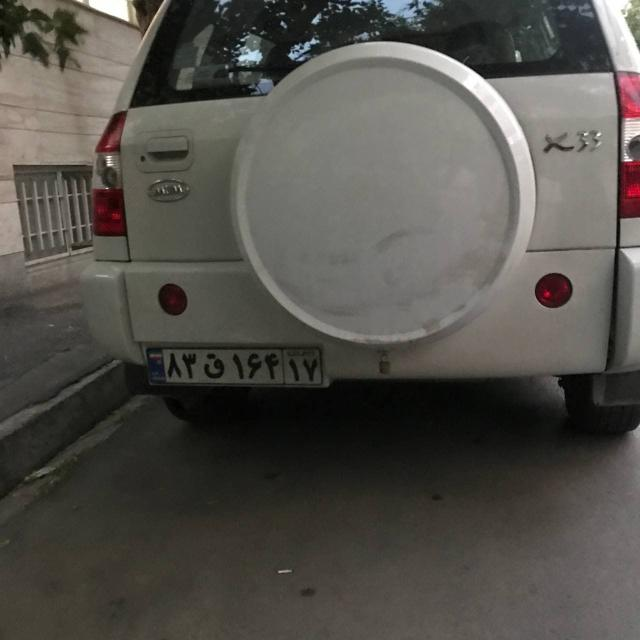Plates: (145, 348, 322, 384)
